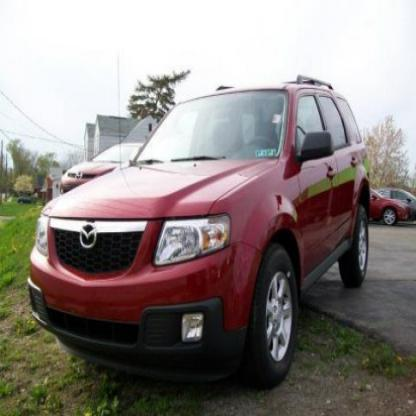Vehicle: (28, 71, 373, 385)
